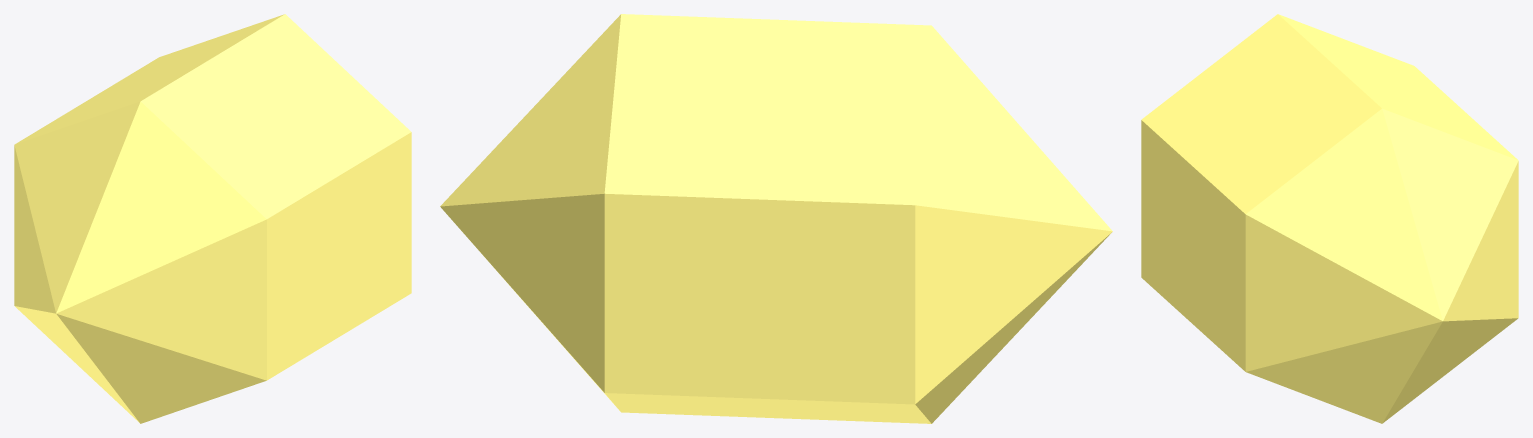
Rendered from gem_jolt.glb.
3 views of the same model, side by side, from view 1: azimuth 30°, elevation 25°; view 2: azimuth 150°, elevation 25°; view 3: azimuth 270°, elevation 25° (orthographic). The views are drawn at different scales.
Parts seen in each view (by area): view 1: model; view 2: model; view 3: model.
Part boxes in pixels (left/top/right/bottom): model: left=14, top=14, right=411, bottom=423; model: left=440, top=14, right=1112, bottom=423; model: left=1141, top=14, right=1518, bottom=423.
Size of the model in its own units: 0.1532 by 0.11 by 0.1193.
